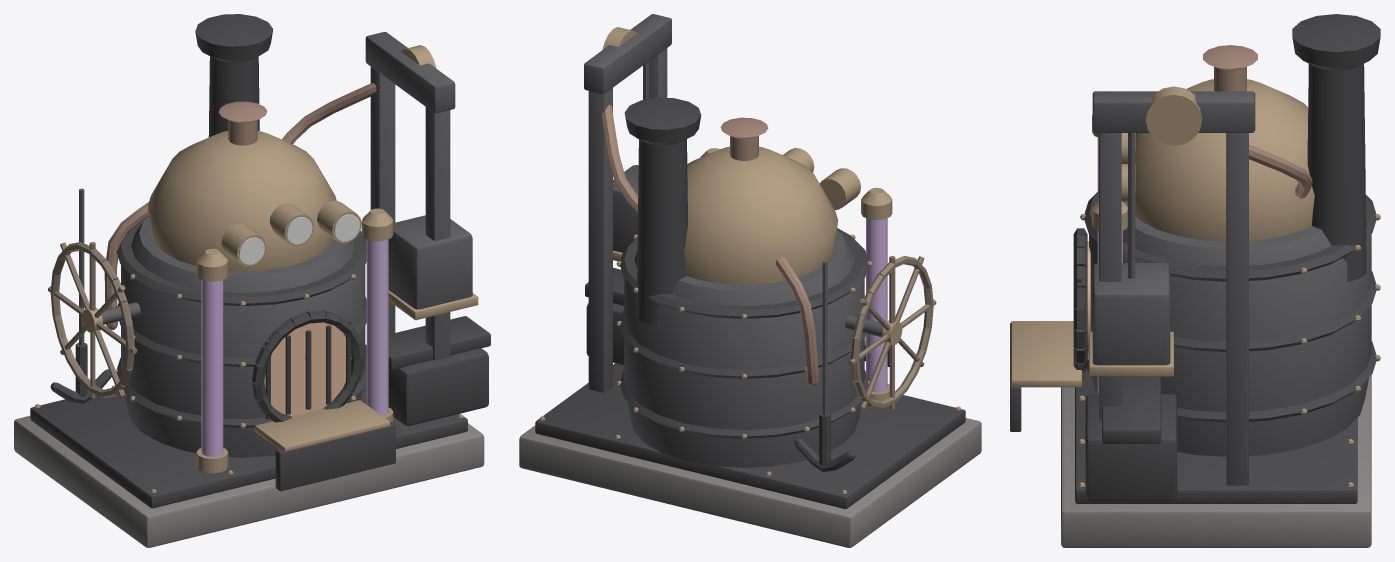
File: reforge_machine.gltf
3 views of the same model, side by side, from view 1: azimuth 30°, elevation 25°; view 2: azimuth 150°, elevation 25°; view 3: azimuth 270°, elevation 25° (orthographic). The views are drawn at different scales.
Visible parts, largest first — view 1: Body, Glow, Hammer, Spin; view 2: Body, Spin, Glow, Hammer; view 3: Body, Hammer, Glow.
Part boxes in pixels (x1,y1,x2,y2): Body: [14, 14, 490, 547]; Glow: [201, 214, 388, 456]; Hammer: [388, 215, 478, 320]; Spin: [48, 242, 137, 398]; Body: [519, 14, 981, 547]; Spin: [848, 256, 936, 409]; Glow: [866, 218, 887, 392]; Hammer: [613, 61, 648, 261]; Body: [1010, 14, 1380, 547]; Hammer: [1089, 133, 1173, 376]; Glow: [1087, 137, 1122, 393].
Size of the model in its own units: 4.97 by 5.07 by 3.81.
